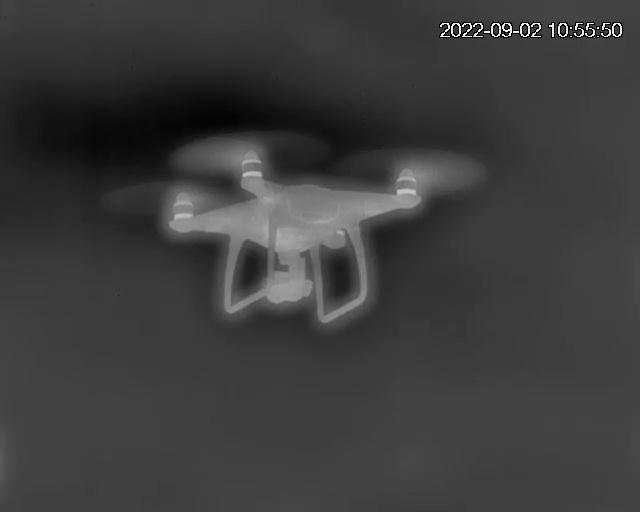DJI-Phantom: (110, 139, 469, 322)
